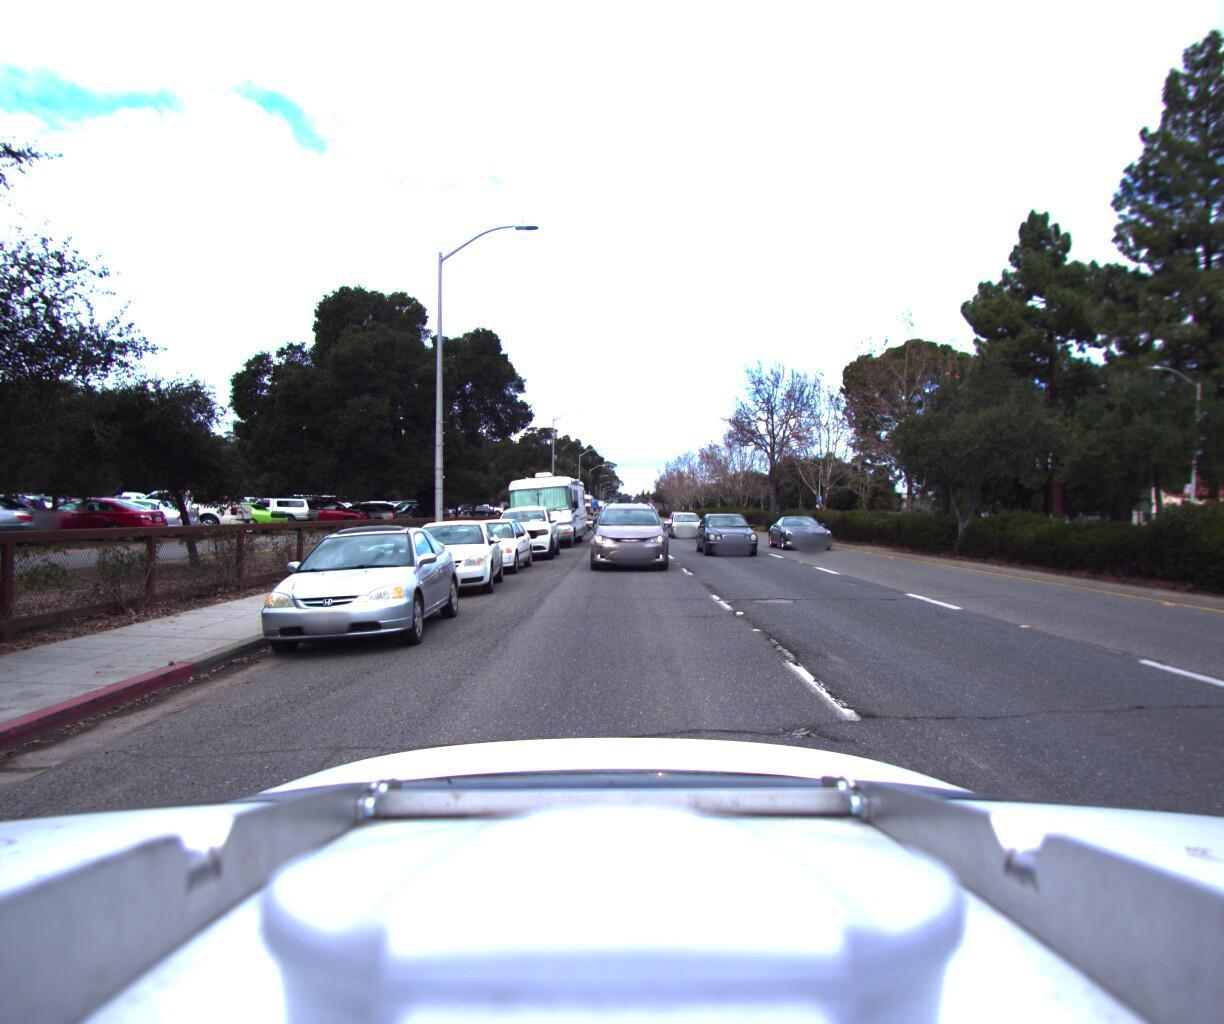car: (238, 516, 461, 662), (384, 513, 505, 597), (590, 495, 668, 575), (436, 513, 534, 575), (486, 497, 555, 559), (696, 507, 771, 557), (770, 506, 847, 550), (282, 494, 369, 527), (317, 496, 395, 527), (382, 498, 447, 523), (668, 509, 709, 540)
other_vehicle: (492, 461, 585, 548), (552, 485, 592, 527)
